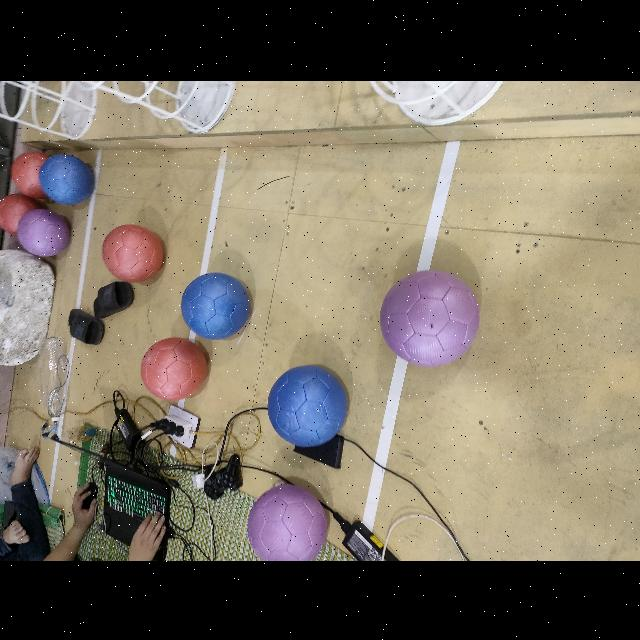B: (268, 364, 346, 446), (180, 272, 250, 338), (38, 152, 94, 204)
P: (379, 269, 478, 365), (247, 484, 327, 560), (16, 208, 70, 256)
R: (140, 336, 208, 400), (102, 223, 164, 281), (11, 149, 52, 197), (0, 192, 42, 234)
S: (76, 80, 240, 138), (366, 80, 506, 126), (0, 80, 100, 142)
